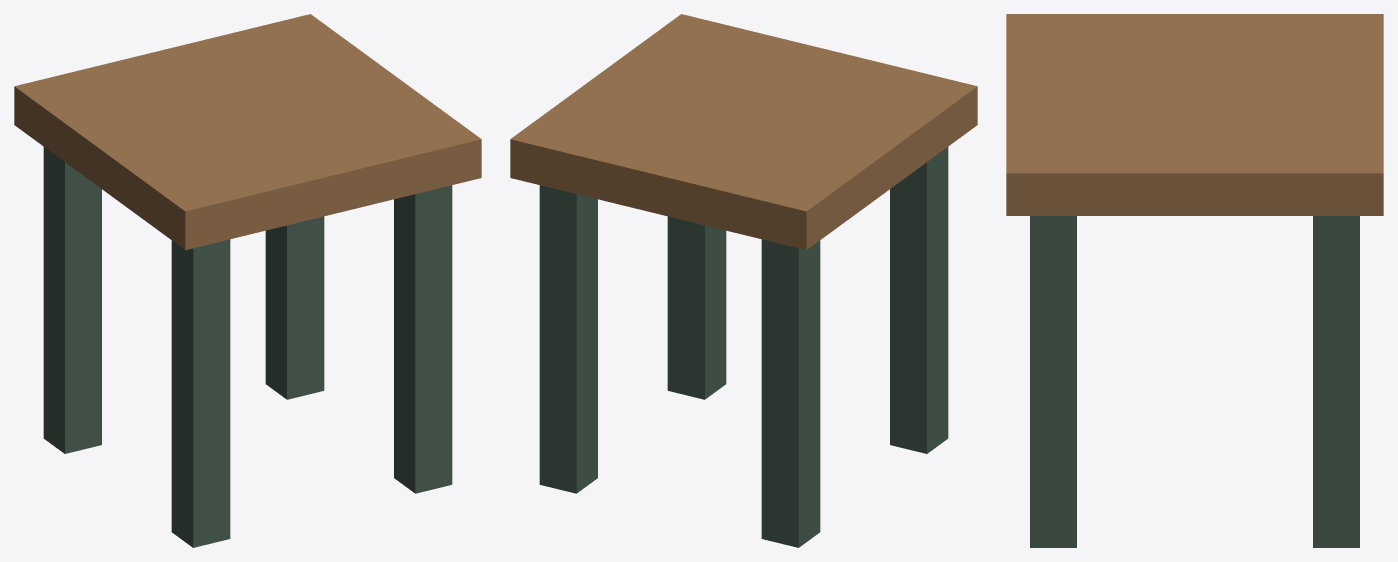
3 views of the same model, side by side, from view 1: azimuth 30°, elevation 25°; view 2: azimuth 150°, elevation 25°; view 3: azimuth 270°, elevation 25° (orthographic). The views are drawn at different scales.
Parts seen in each view (by area): view 1: top, leg-0-1, leg-1-1, leg-0-0, leg-1-0; view 2: top, leg-0-0, leg-1-0, leg-0-1, leg-1-1; view 3: top, leg-1-0, leg-1-1.
Part boxes in pixels (<box>): top: <box>14,14,481,249</box>; leg-0-1: <box>171,239,230,547</box>; leg-1-1: <box>394,185,452,493</box>; leg-0-0: <box>43,147,101,453</box>; leg-1-0: <box>265,216,324,399</box>; top: <box>510,14,977,249</box>; leg-0-0: <box>761,239,820,547</box>; leg-1-0: <box>539,185,597,493</box>; leg-0-1: <box>890,147,948,453</box>; leg-1-1: <box>667,216,726,399</box>; top: <box>1006,14,1383,215</box>; leg-1-0: <box>1313,216,1359,547</box>; leg-1-1: <box>1030,216,1076,547</box>.
Bounding box in the file's own units: 0.4 × 0.45 × 0.4.
